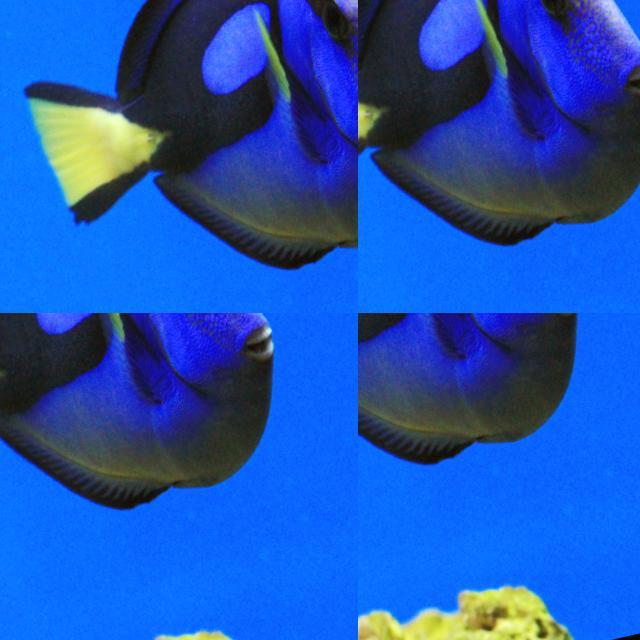BlueTang: (37, 0, 358, 263), (358, 0, 639, 246), (0, 313, 276, 512), (358, 313, 579, 468)
